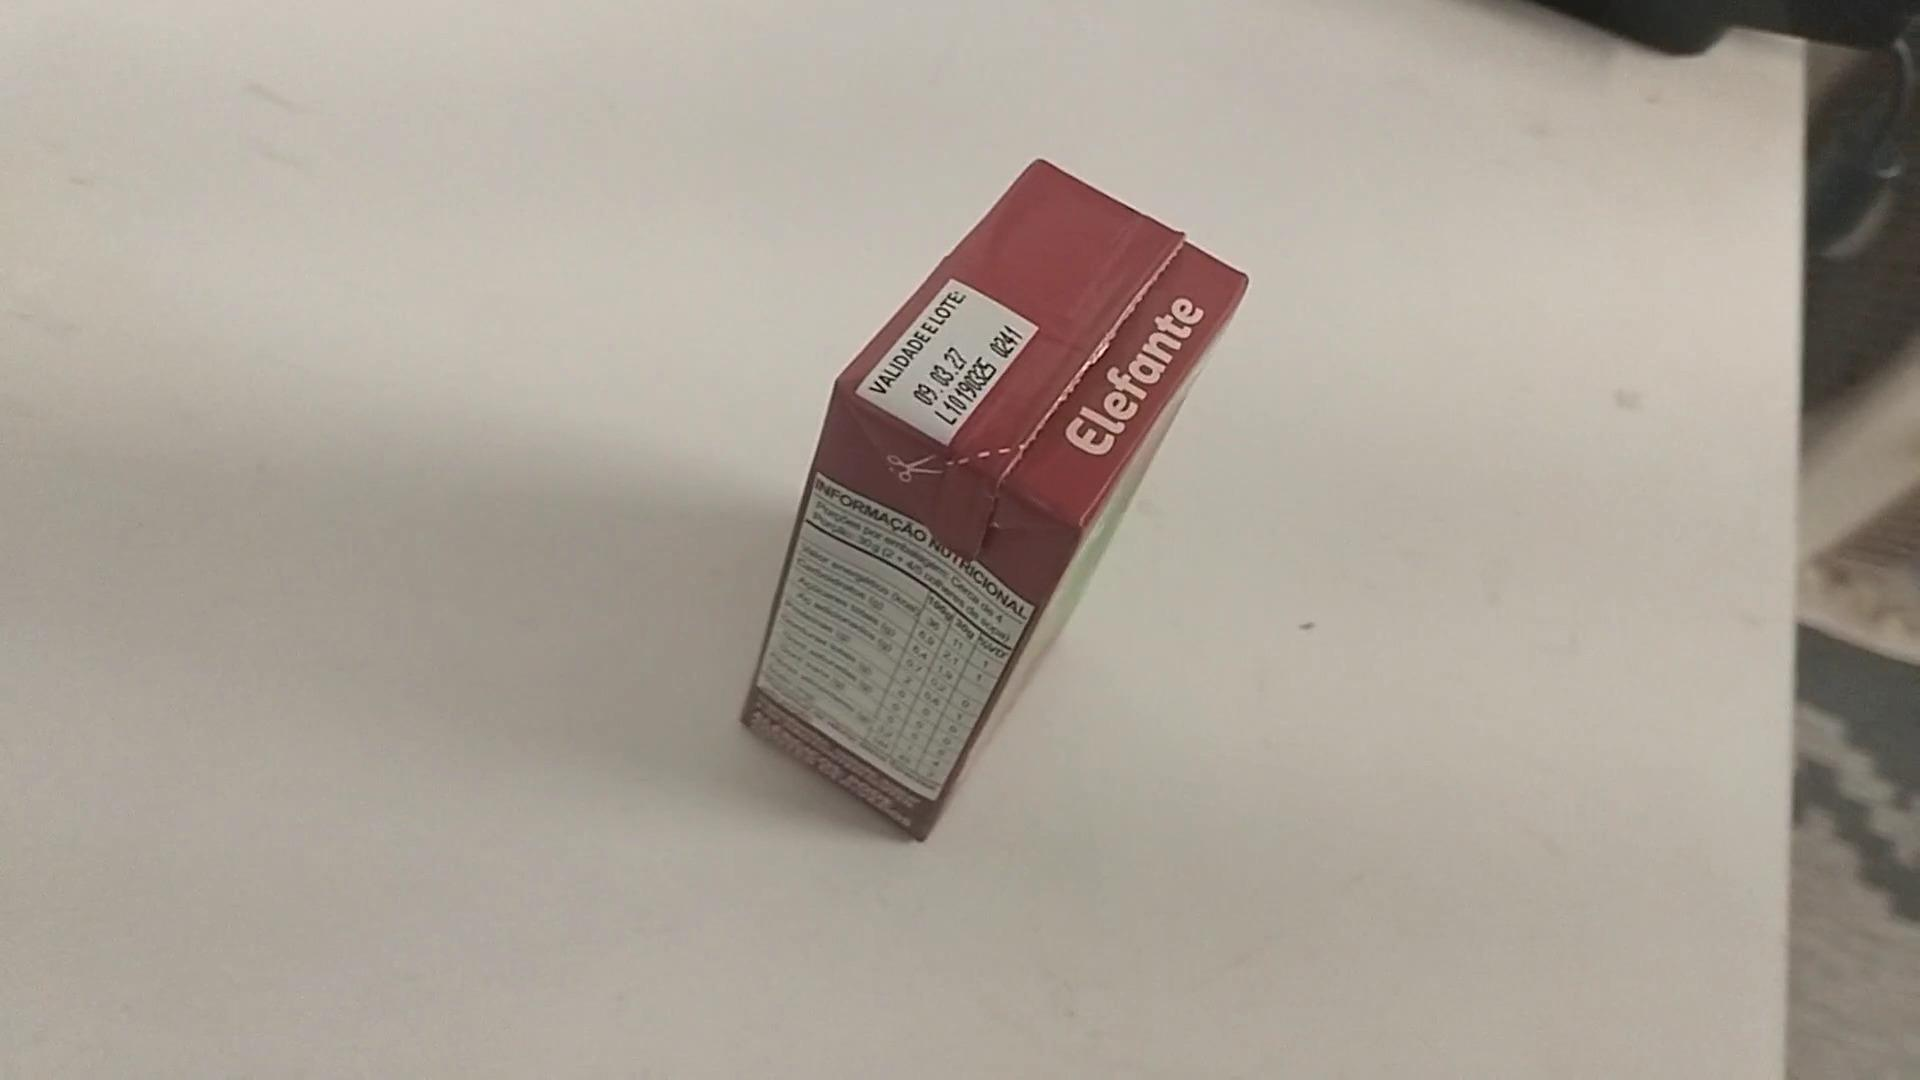tomate: (711, 136, 1284, 852)
